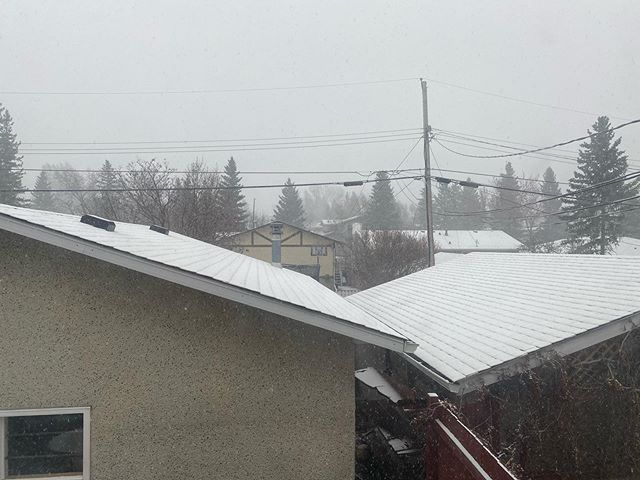building: (1, 218, 337, 480), (354, 248, 640, 480), (224, 212, 360, 289)
sky: (1, 1, 624, 156)
vegetation: (10, 146, 640, 226)
